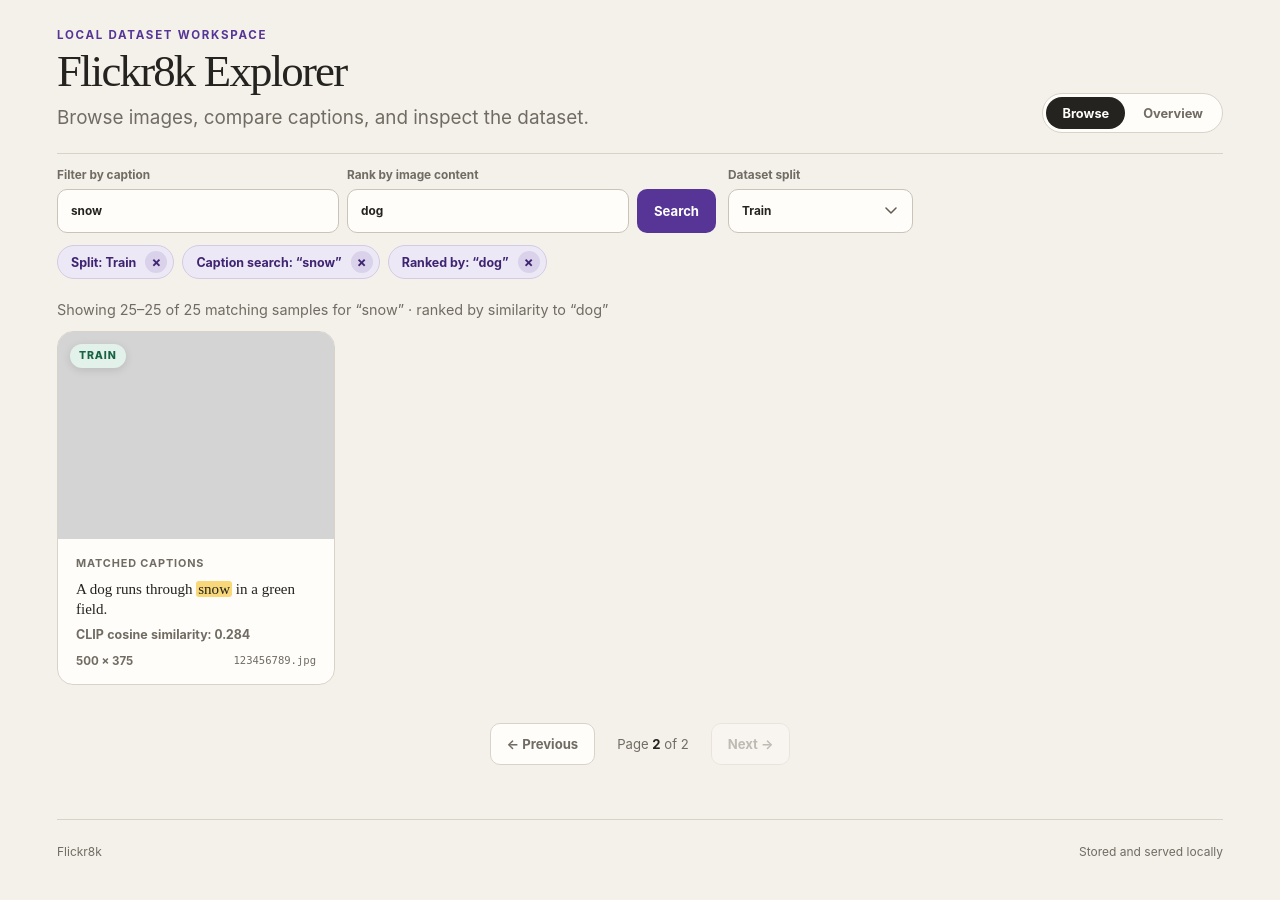
Test: removes only the rank chip and returns to unranked filtered results
Check: the text "CLIP cosine similarity: 0.284" is shown, box left=76, top=627, right=250, bottom=642
Replace the text in the search field labelled "Filter by caption" with "unsubmitted caption" at (198, 211), box left=57, top=189, right=339, bottom=233
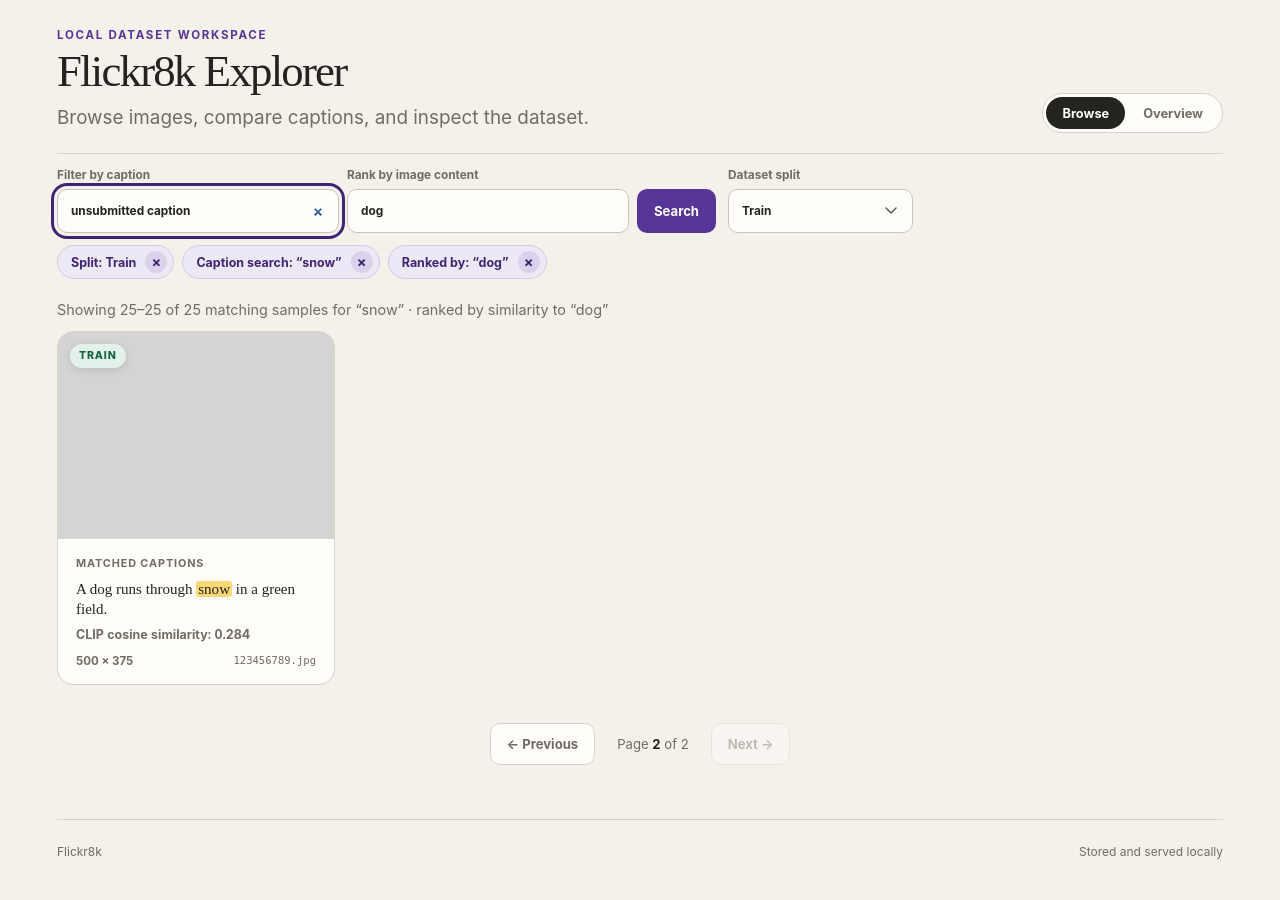
Click the button named "Remove filter: Ranked by: “dog”" at (529, 262), box left=518, top=251, right=540, bottom=273
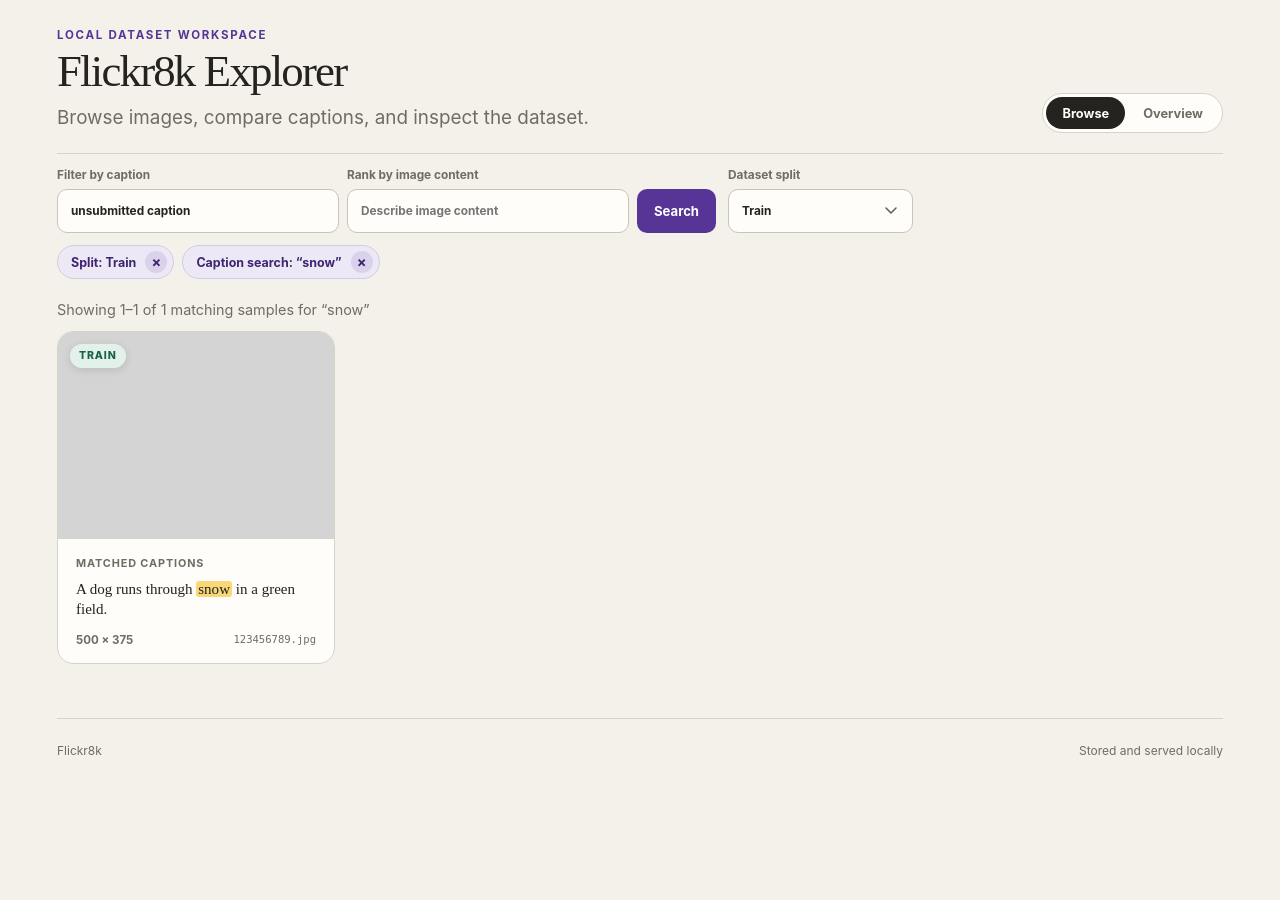
Check: the text "CLIP cosine similarity: 0.284" is gone
Check: the search field labelled "Rank by image content" is empty, box left=347, top=189, right=629, bottom=233
Check: the text "Ranked by: “dog”" is gone
